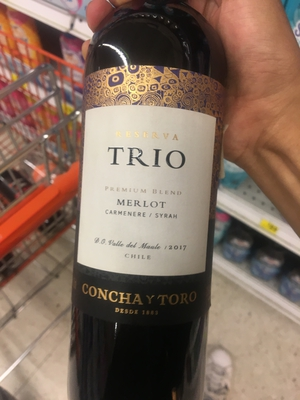trio merlot: (63, 12, 245, 395)
